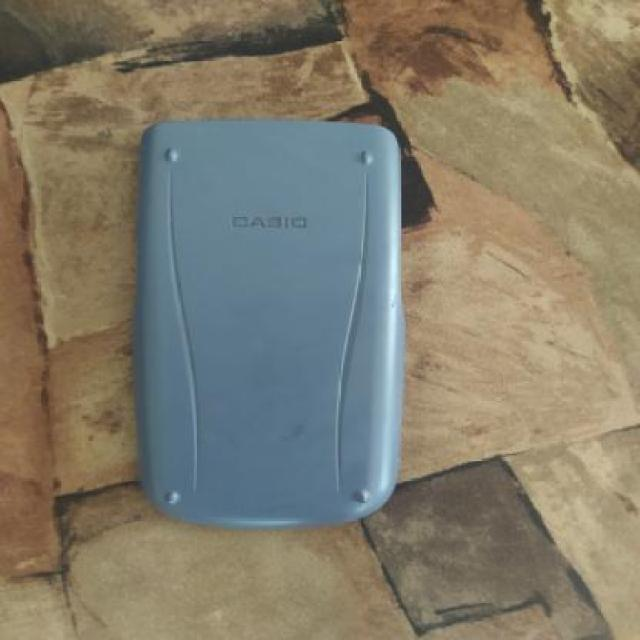Calculator: (130, 107, 416, 533)
